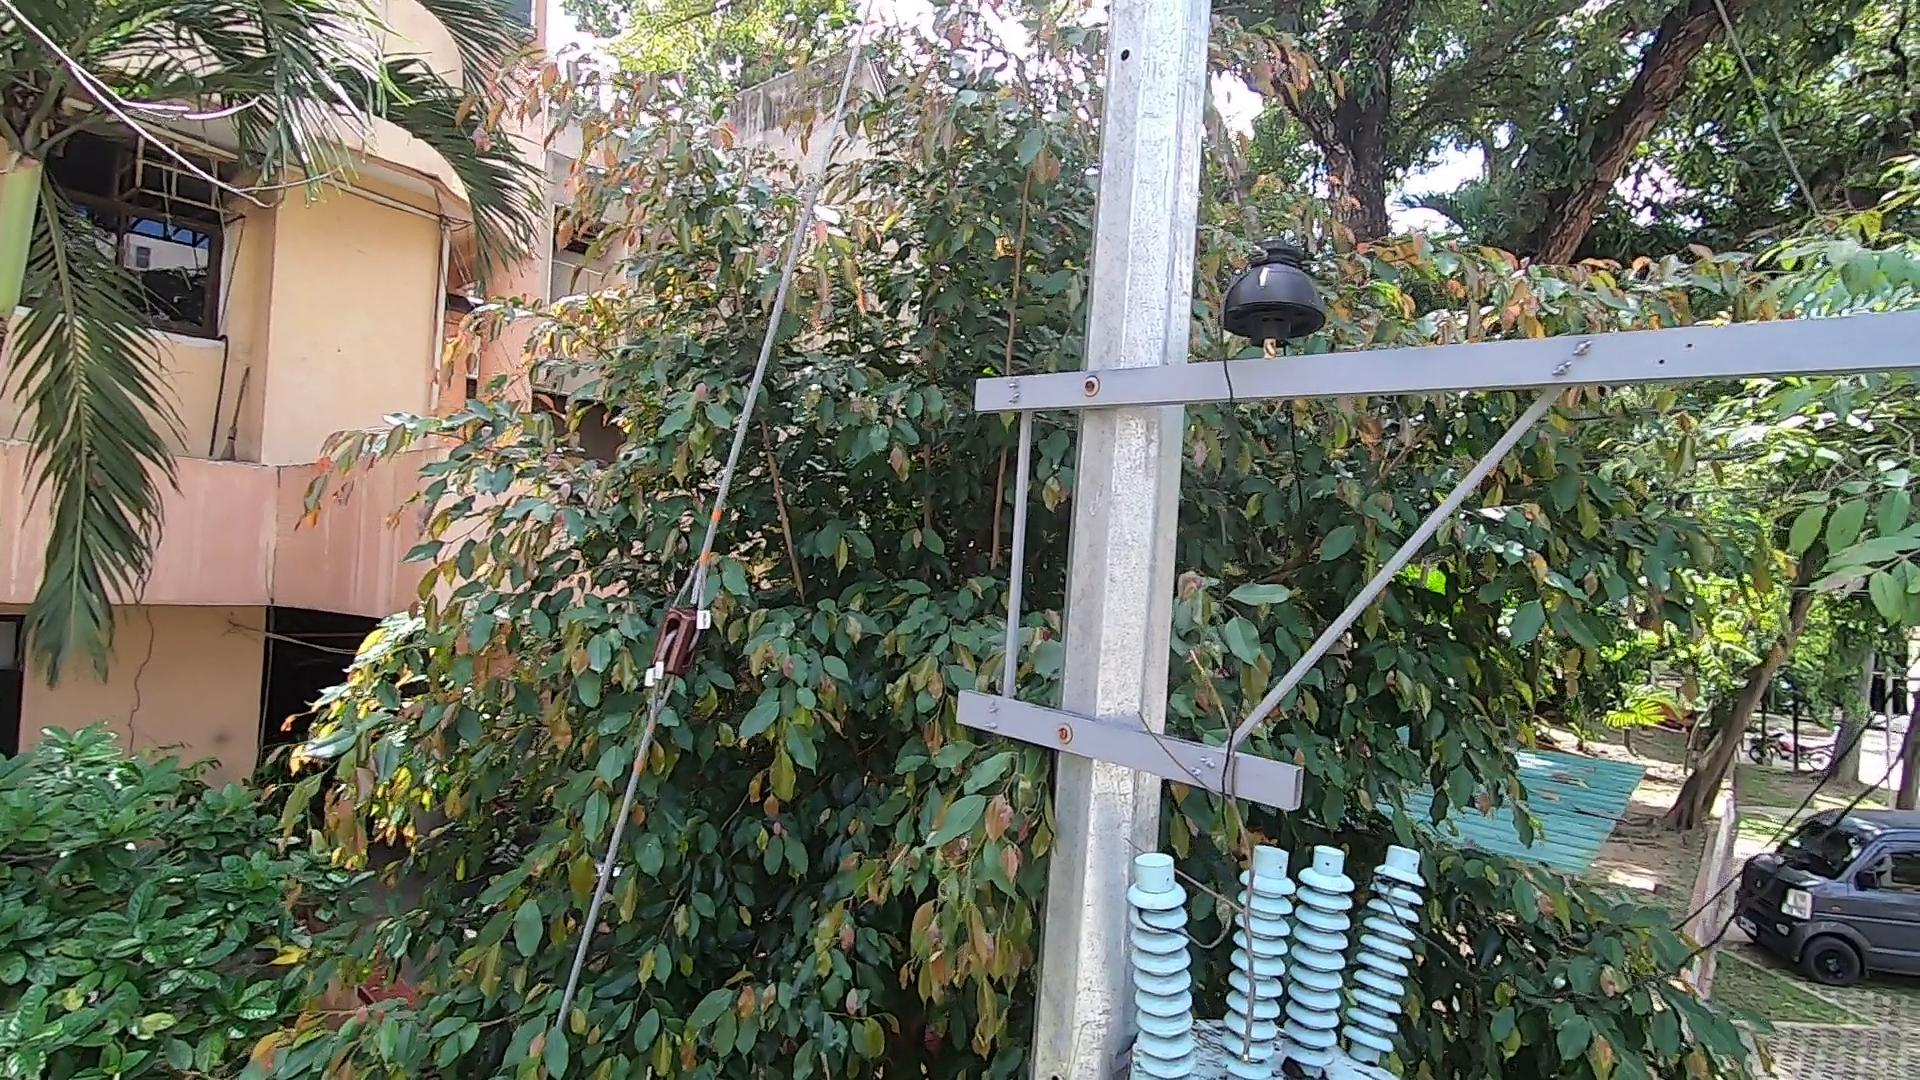tree branch: (1133, 580, 1274, 1080)
